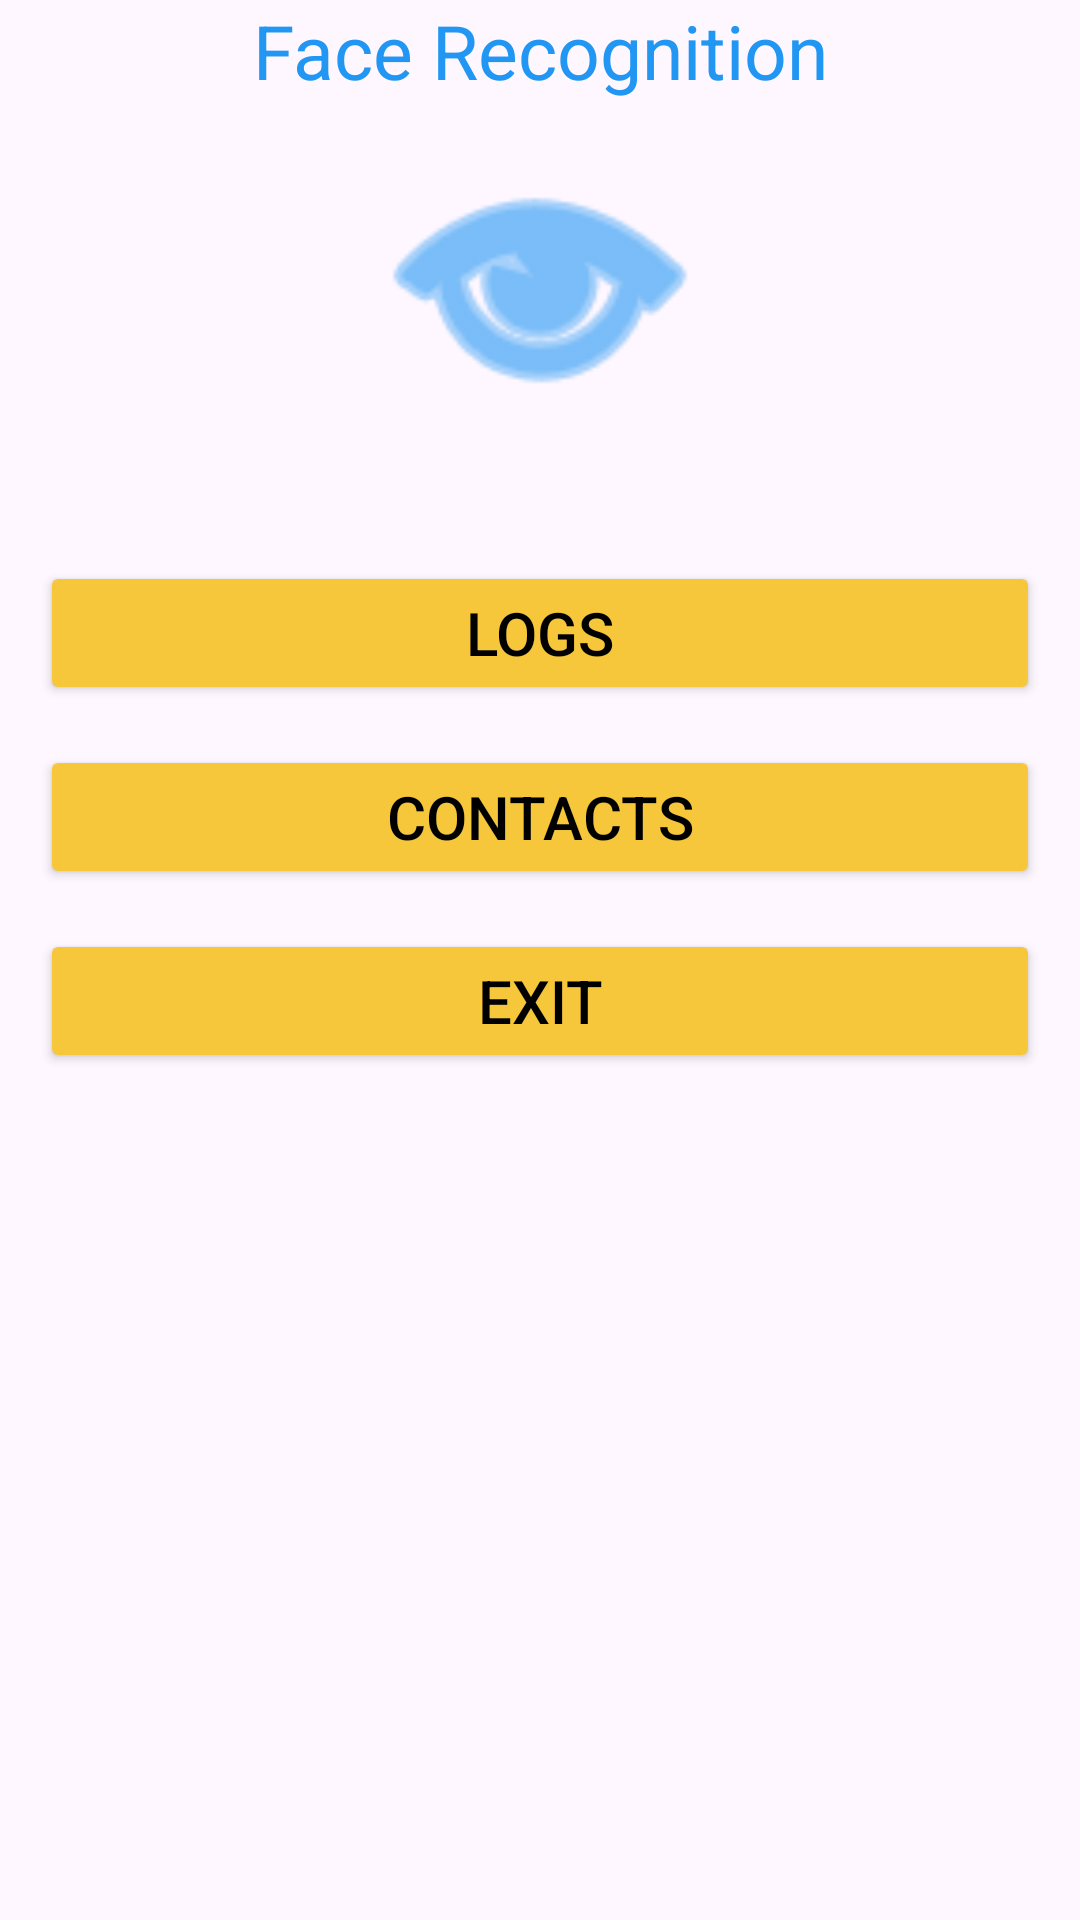

Named icons in this screenshot (1080*1920) and their bounding boxes, (x1, y1, x2, y2):
view: (393, 198, 687, 383)
